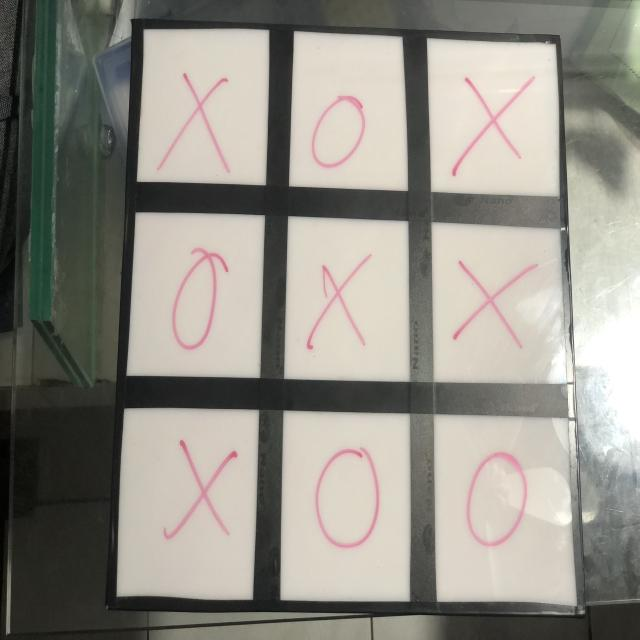o: (463, 444, 530, 552), (315, 444, 382, 551), (166, 247, 228, 353), (306, 88, 369, 175)
table: (107, 19, 610, 625)
x: (451, 68, 536, 177), (454, 251, 539, 355), (168, 438, 239, 546), (165, 72, 236, 174), (308, 255, 378, 352)
